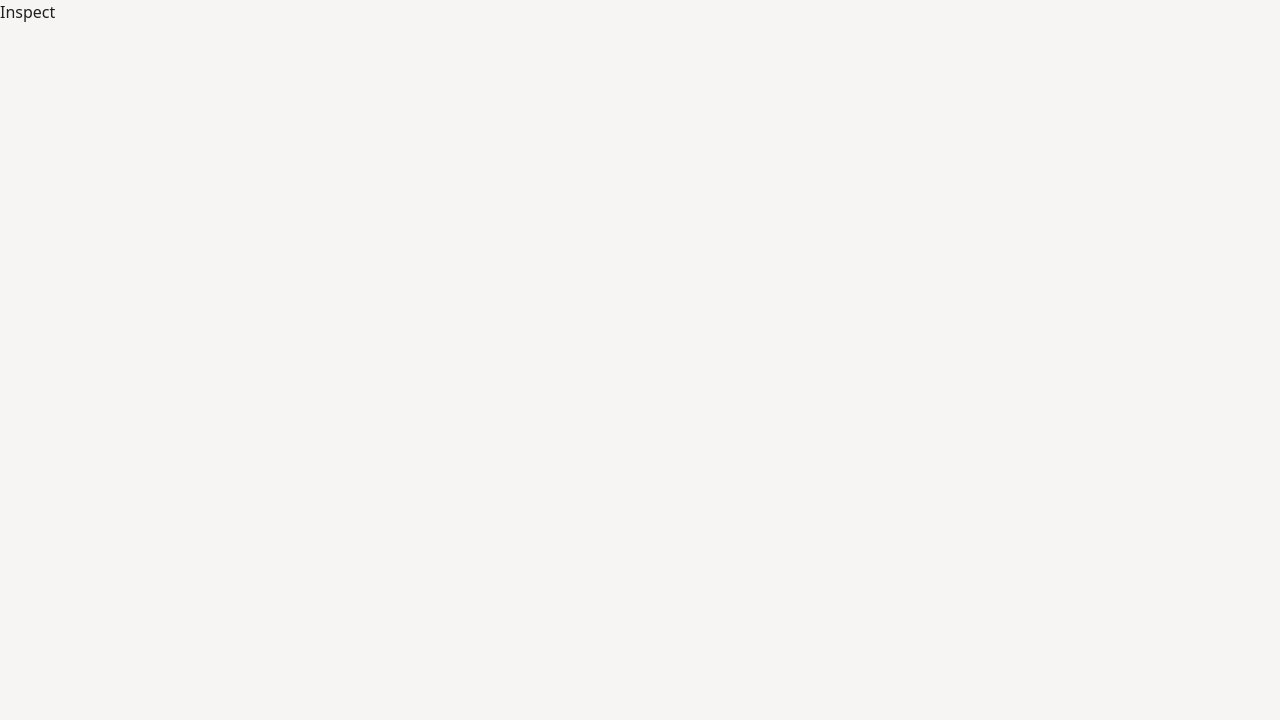
Test case: Drawer › opens from the right edge and closes on Escape
The image size is (1280, 720).
Click the button "Inspect" at (28, 12), box [0,0,55,24]
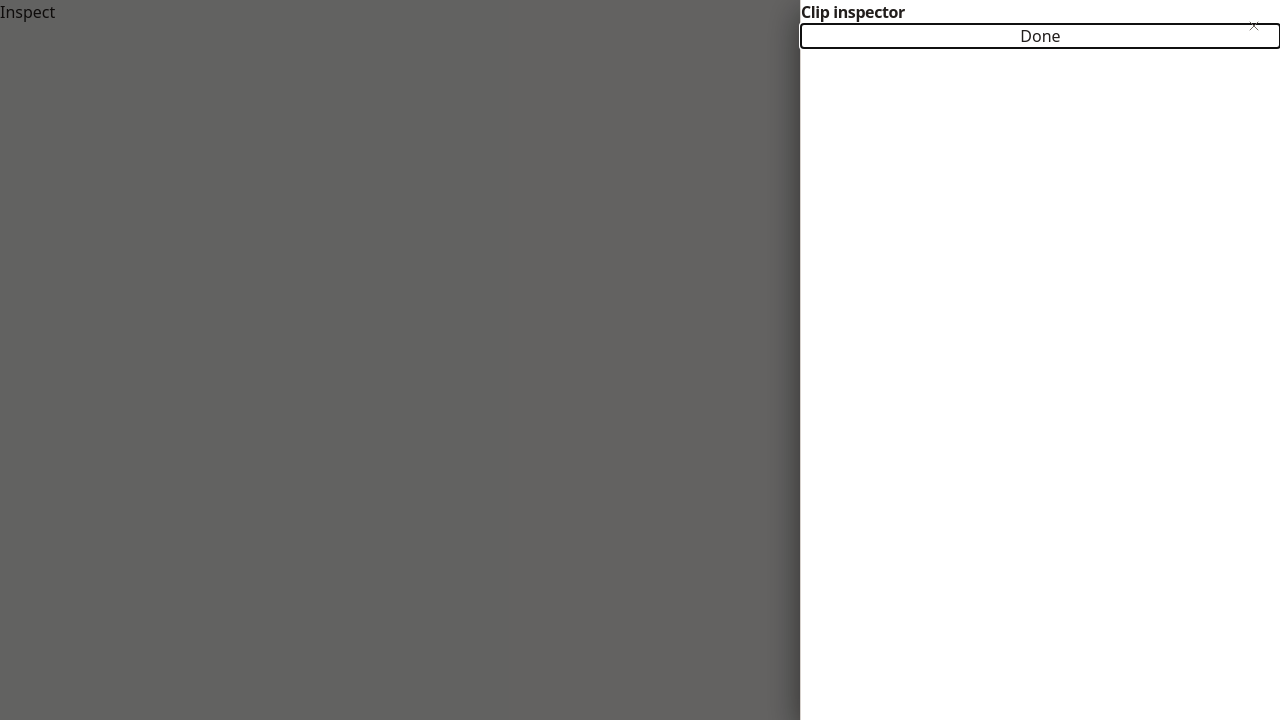
Press Escape
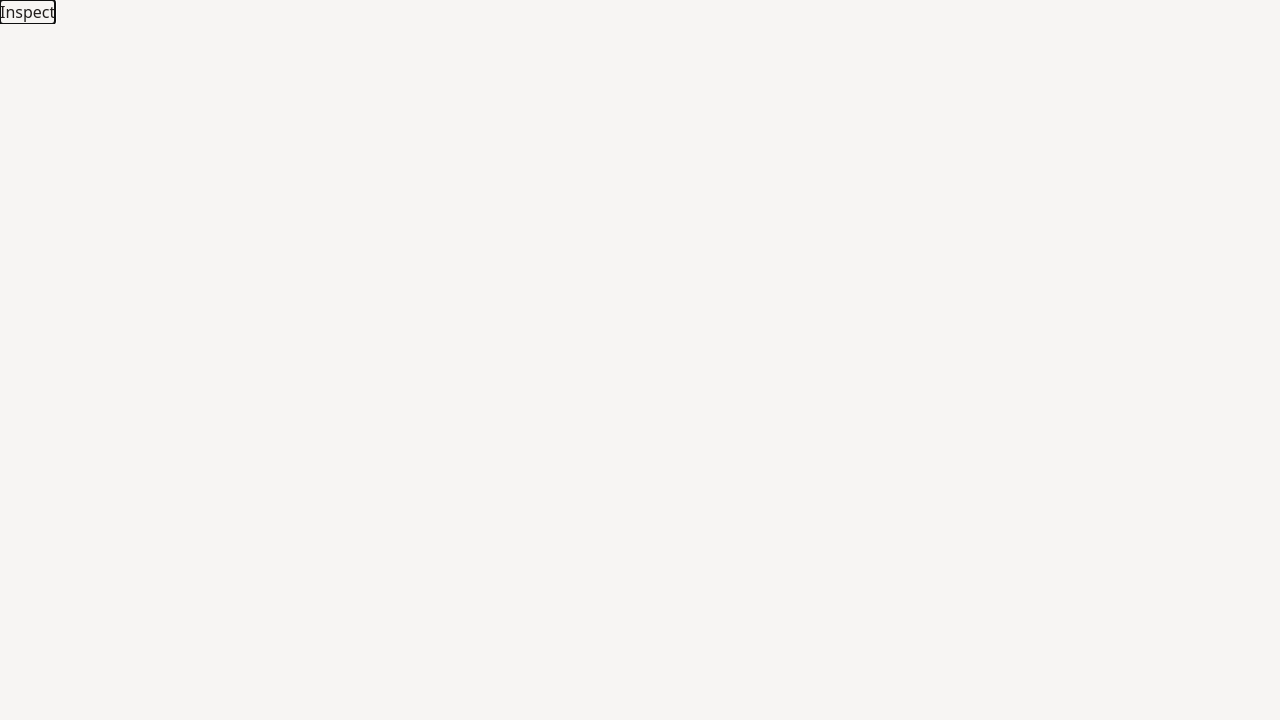
Result: the dialog is gone
